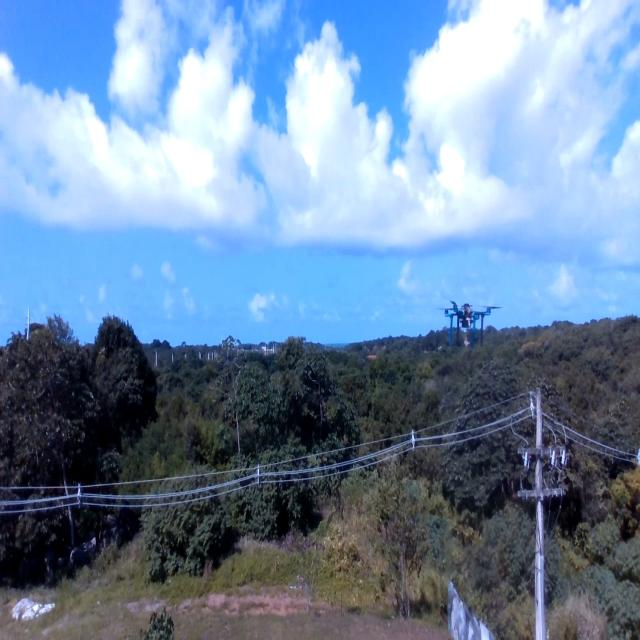-uav-: (431, 282, 506, 350)
